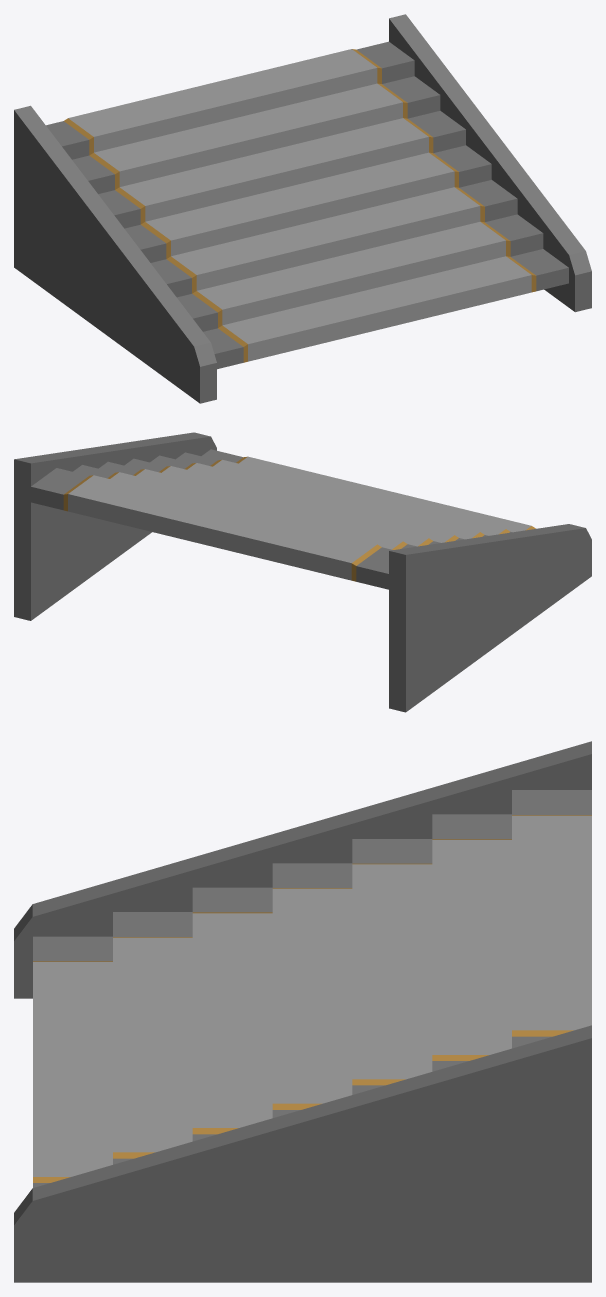
Rendered from Staircase.glb.
The picture shows the model from 3 angles, top to bottom: view 1: azimuth 30°, elevation 25°; view 2: azimuth 150°, elevation 25°; view 3: azimuth 270°, elevation 25°; orthographic projection. The views are drawn at different scales.
Visible parts, largest first — view 1: Staircase; view 2: Staircase; view 3: Staircase.
Part boxes in pixels (x1=…): Staircase: x1=14, y1=14, x2=591, y2=403; Staircase: x1=14, y1=432, x2=591, y2=712; Staircase: x1=14, y1=741, x2=591, y2=1282.
Bounding box in the file's own units: 1.29 × 0.4943 × 1.06.
